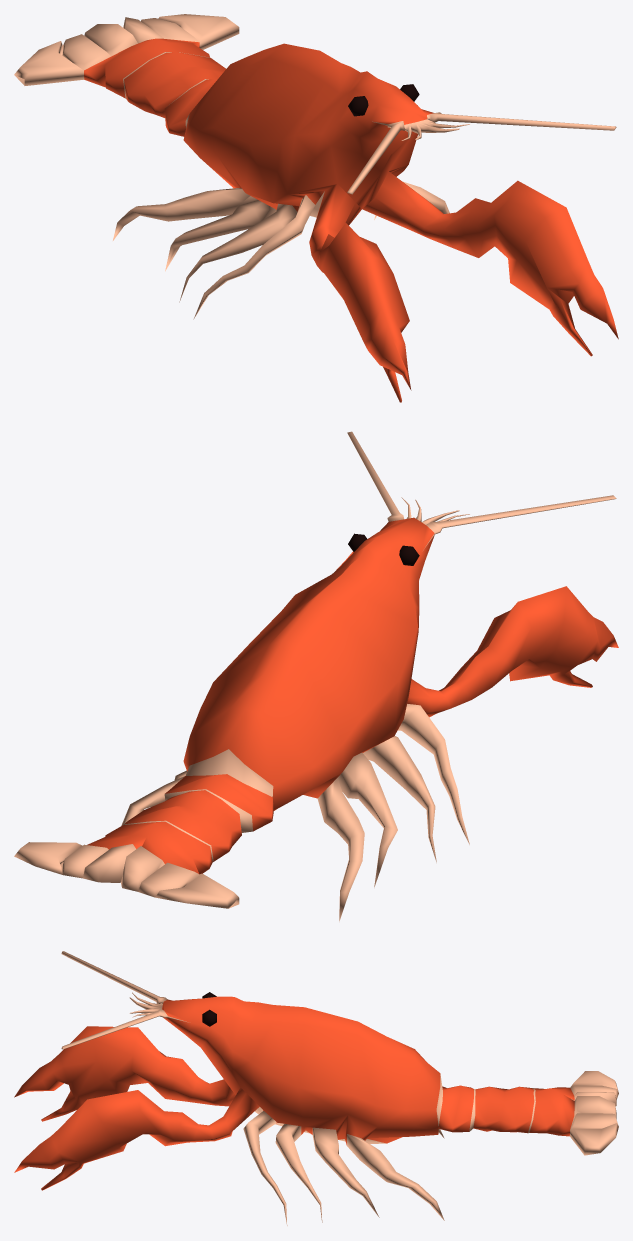
The model's file is NOVELO_CRAYFISH.gltf.
The picture shows the model from 3 angles, top to bottom: view 1: azimuth 30°, elevation 25°; view 2: azimuth 150°, elevation 25°; view 3: azimuth 270°, elevation 25°; orthographic projection. The views are drawn at different scales.
Parts seen in each view (by area): view 1: node-0; view 2: node-0; view 3: node-0.
Part boxes in pixels (x1,y1,x2,y2): node-0: (14,14,618,402); node-0: (14,431,618,921); node-0: (14,951,618,1225).
Bounding box in the file's own units: 275 × 235 × 699.
